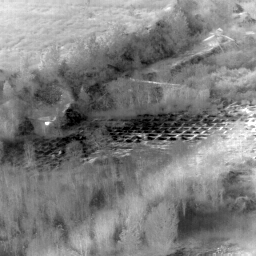aircraft: (46, 122, 48, 124)
